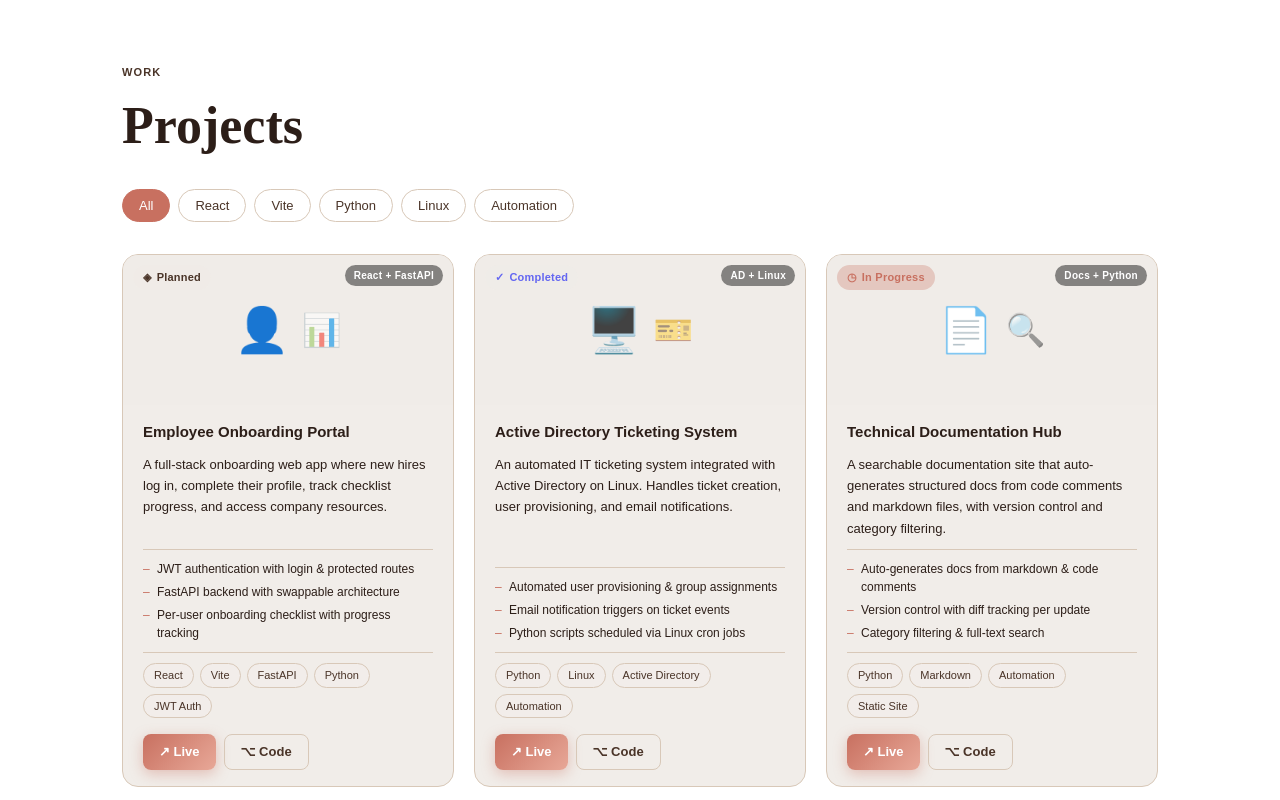
Projects — filtering › shows only React projects when React filter is active
Click the button "React" at (212, 205), box [178,188,246,222]
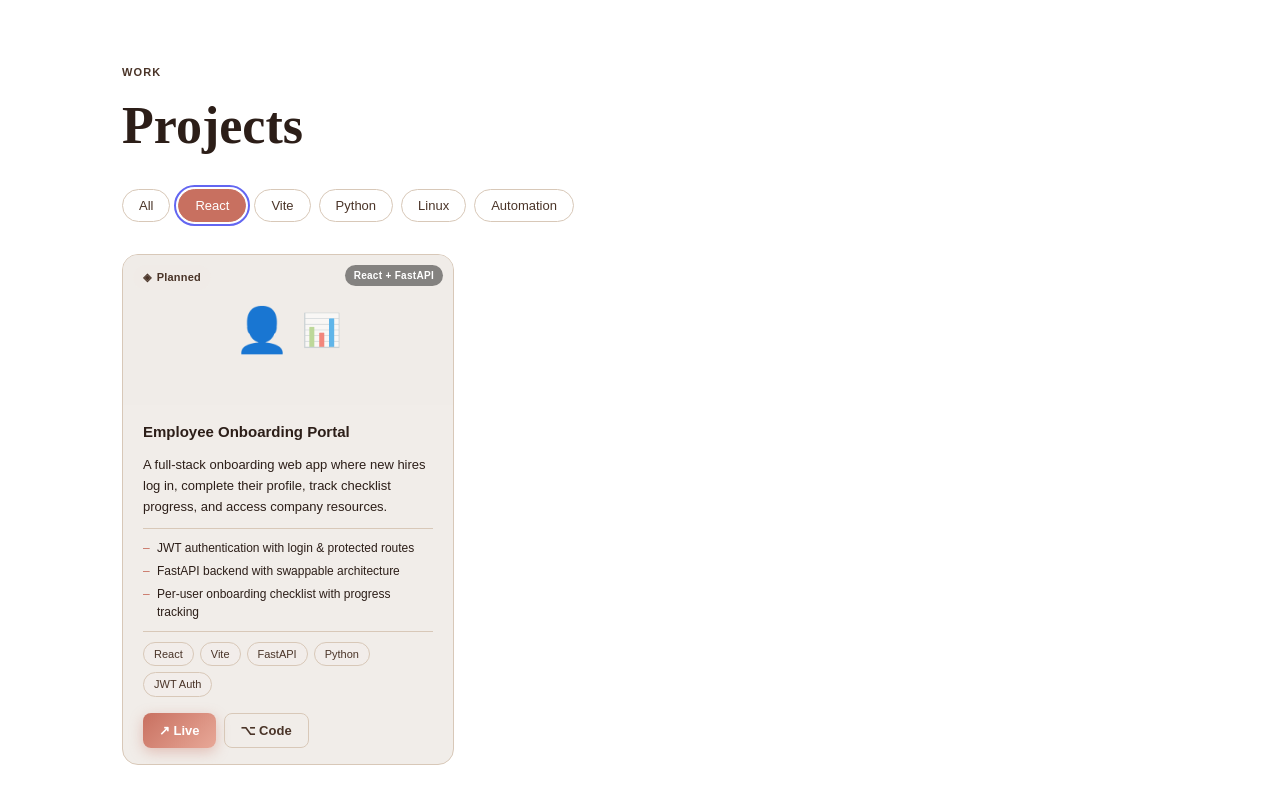
Expected: the element "Employee Onboarding Portal" is shown, [122,254,454,765]
Now the heading "Active Directory" is gone
Now the heading "Technical Documentation" is gone
